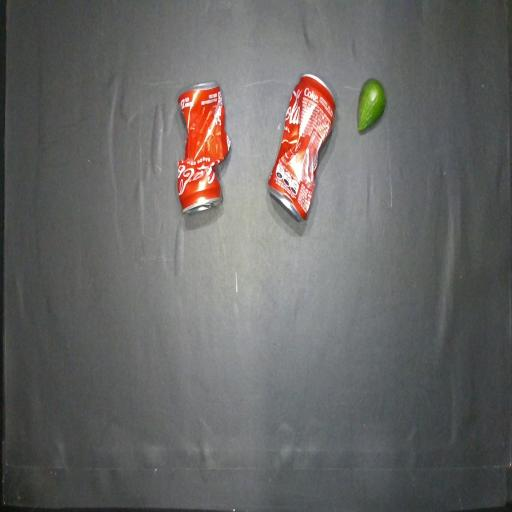higo: (357, 79, 386, 131)
lata_defectuoso: (268, 74, 335, 220), (177, 82, 230, 213)
